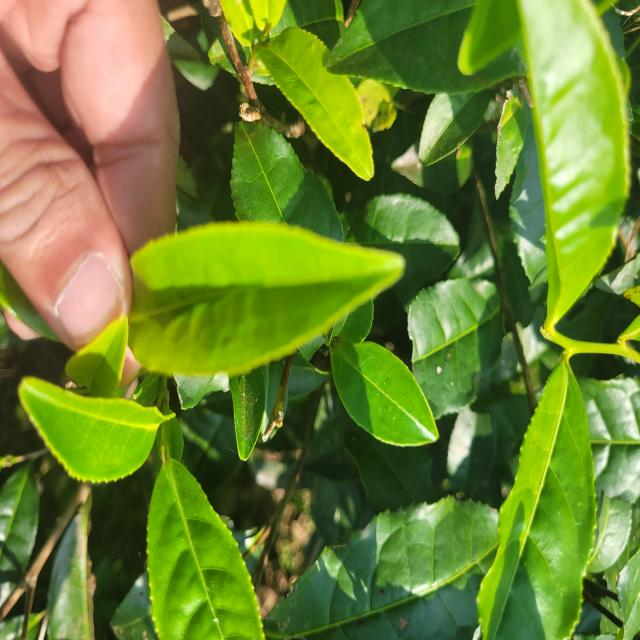Catagory A(1-2 days): (89, 172, 426, 399)
